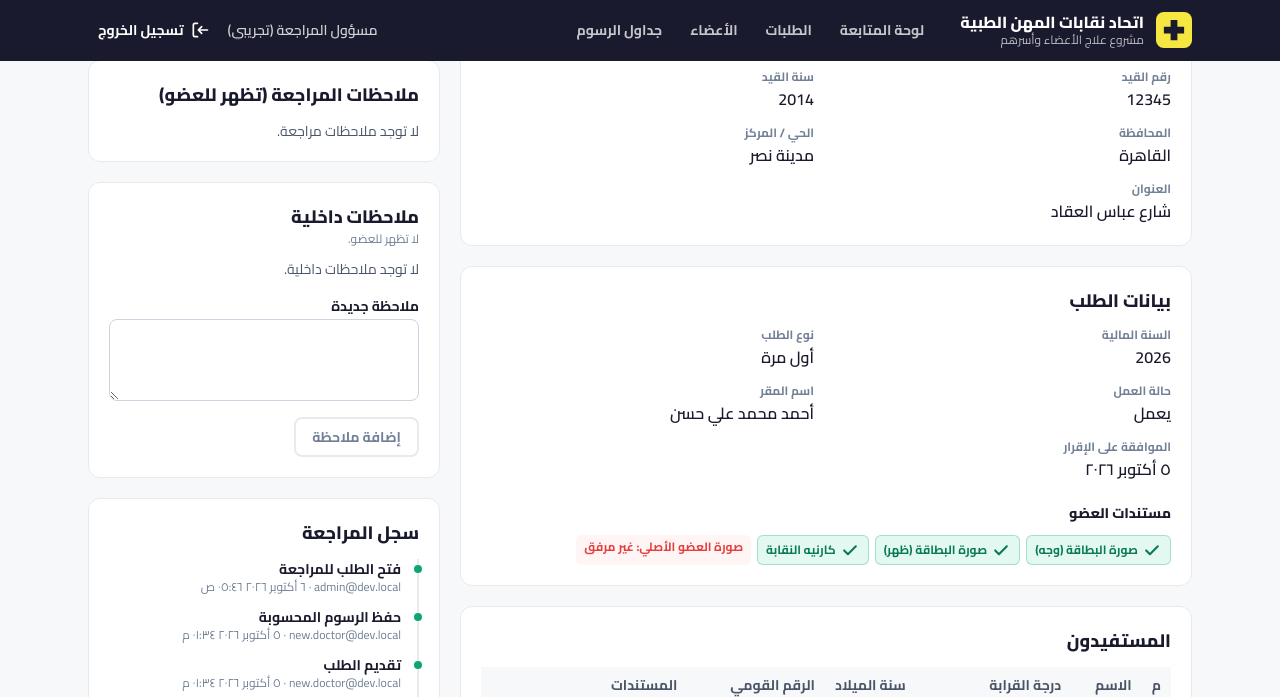
Test: AdminApplicationDetailPage (PROMPT.md §44) › adds an internal note and lists it
(page scrolled)
Expected: the text "لا توجد ملاحظات داخلية." is shown, left=284, top=256, right=419, bottom=282
Type "اتصلت بالعضو هاتفياً" into the text box labelled "ملاحظة جديدة" at {"x": 264, "y": 360}, box left=109, top=319, right=419, bottom=401
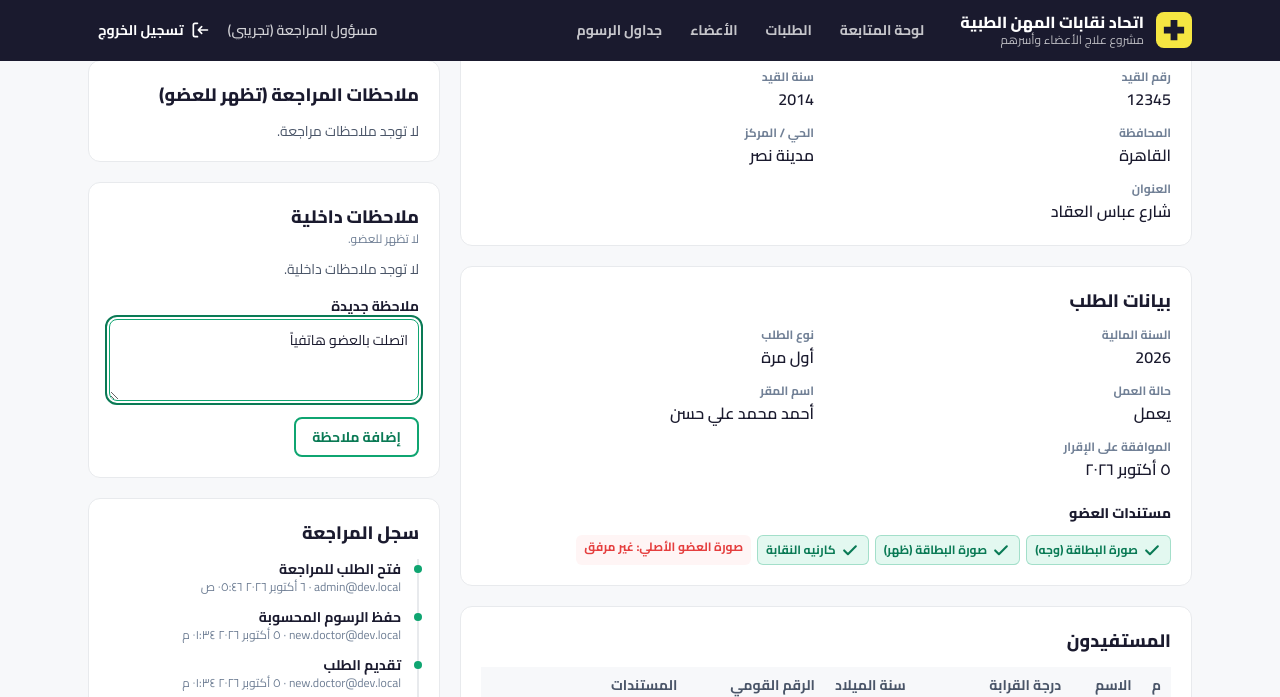
Click the button "إضافة ملاحظة" at {"x": 357, "y": 437}, box left=294, top=417, right=419, bottom=457
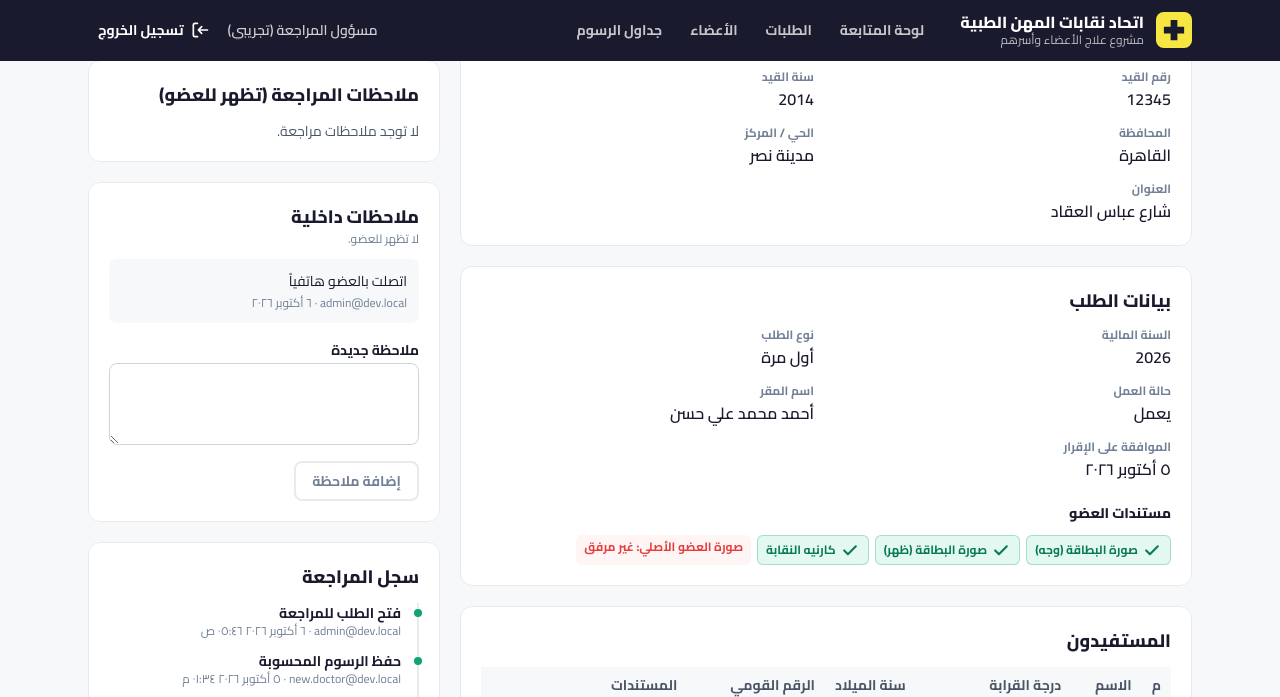
Expected: the text "اتصلت بالعضو هاتفياً" is shown, left=289, top=268, right=407, bottom=294
Expected: the text box labelled "ملاحظة جديدة" is empty, left=109, top=363, right=419, bottom=445
